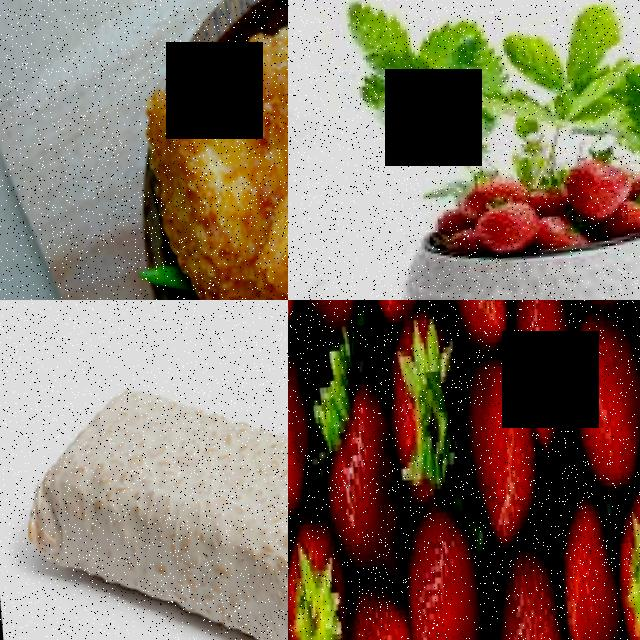strawberry: (323, 369, 402, 598), (385, 311, 467, 506), (568, 306, 640, 493), (397, 501, 487, 640), (555, 496, 623, 640), (288, 515, 350, 640), (488, 544, 567, 640), (288, 333, 314, 515), (612, 495, 640, 640)
tempeh: (30, 363, 288, 620)
